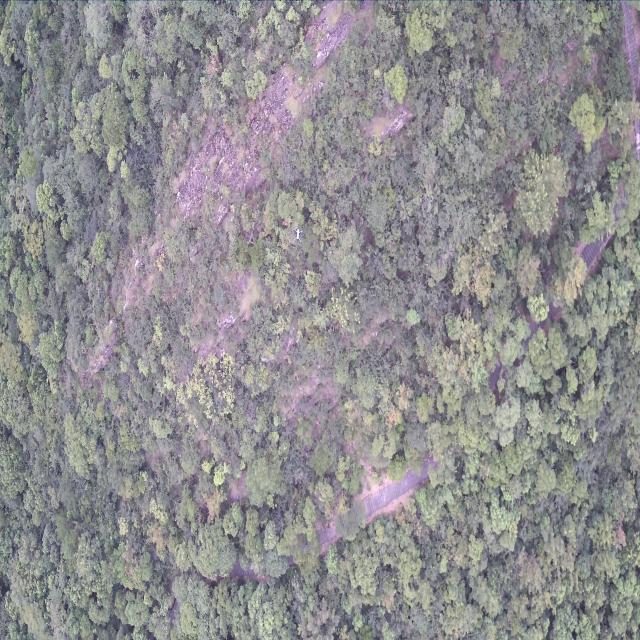drone: (294, 228, 302, 243)
